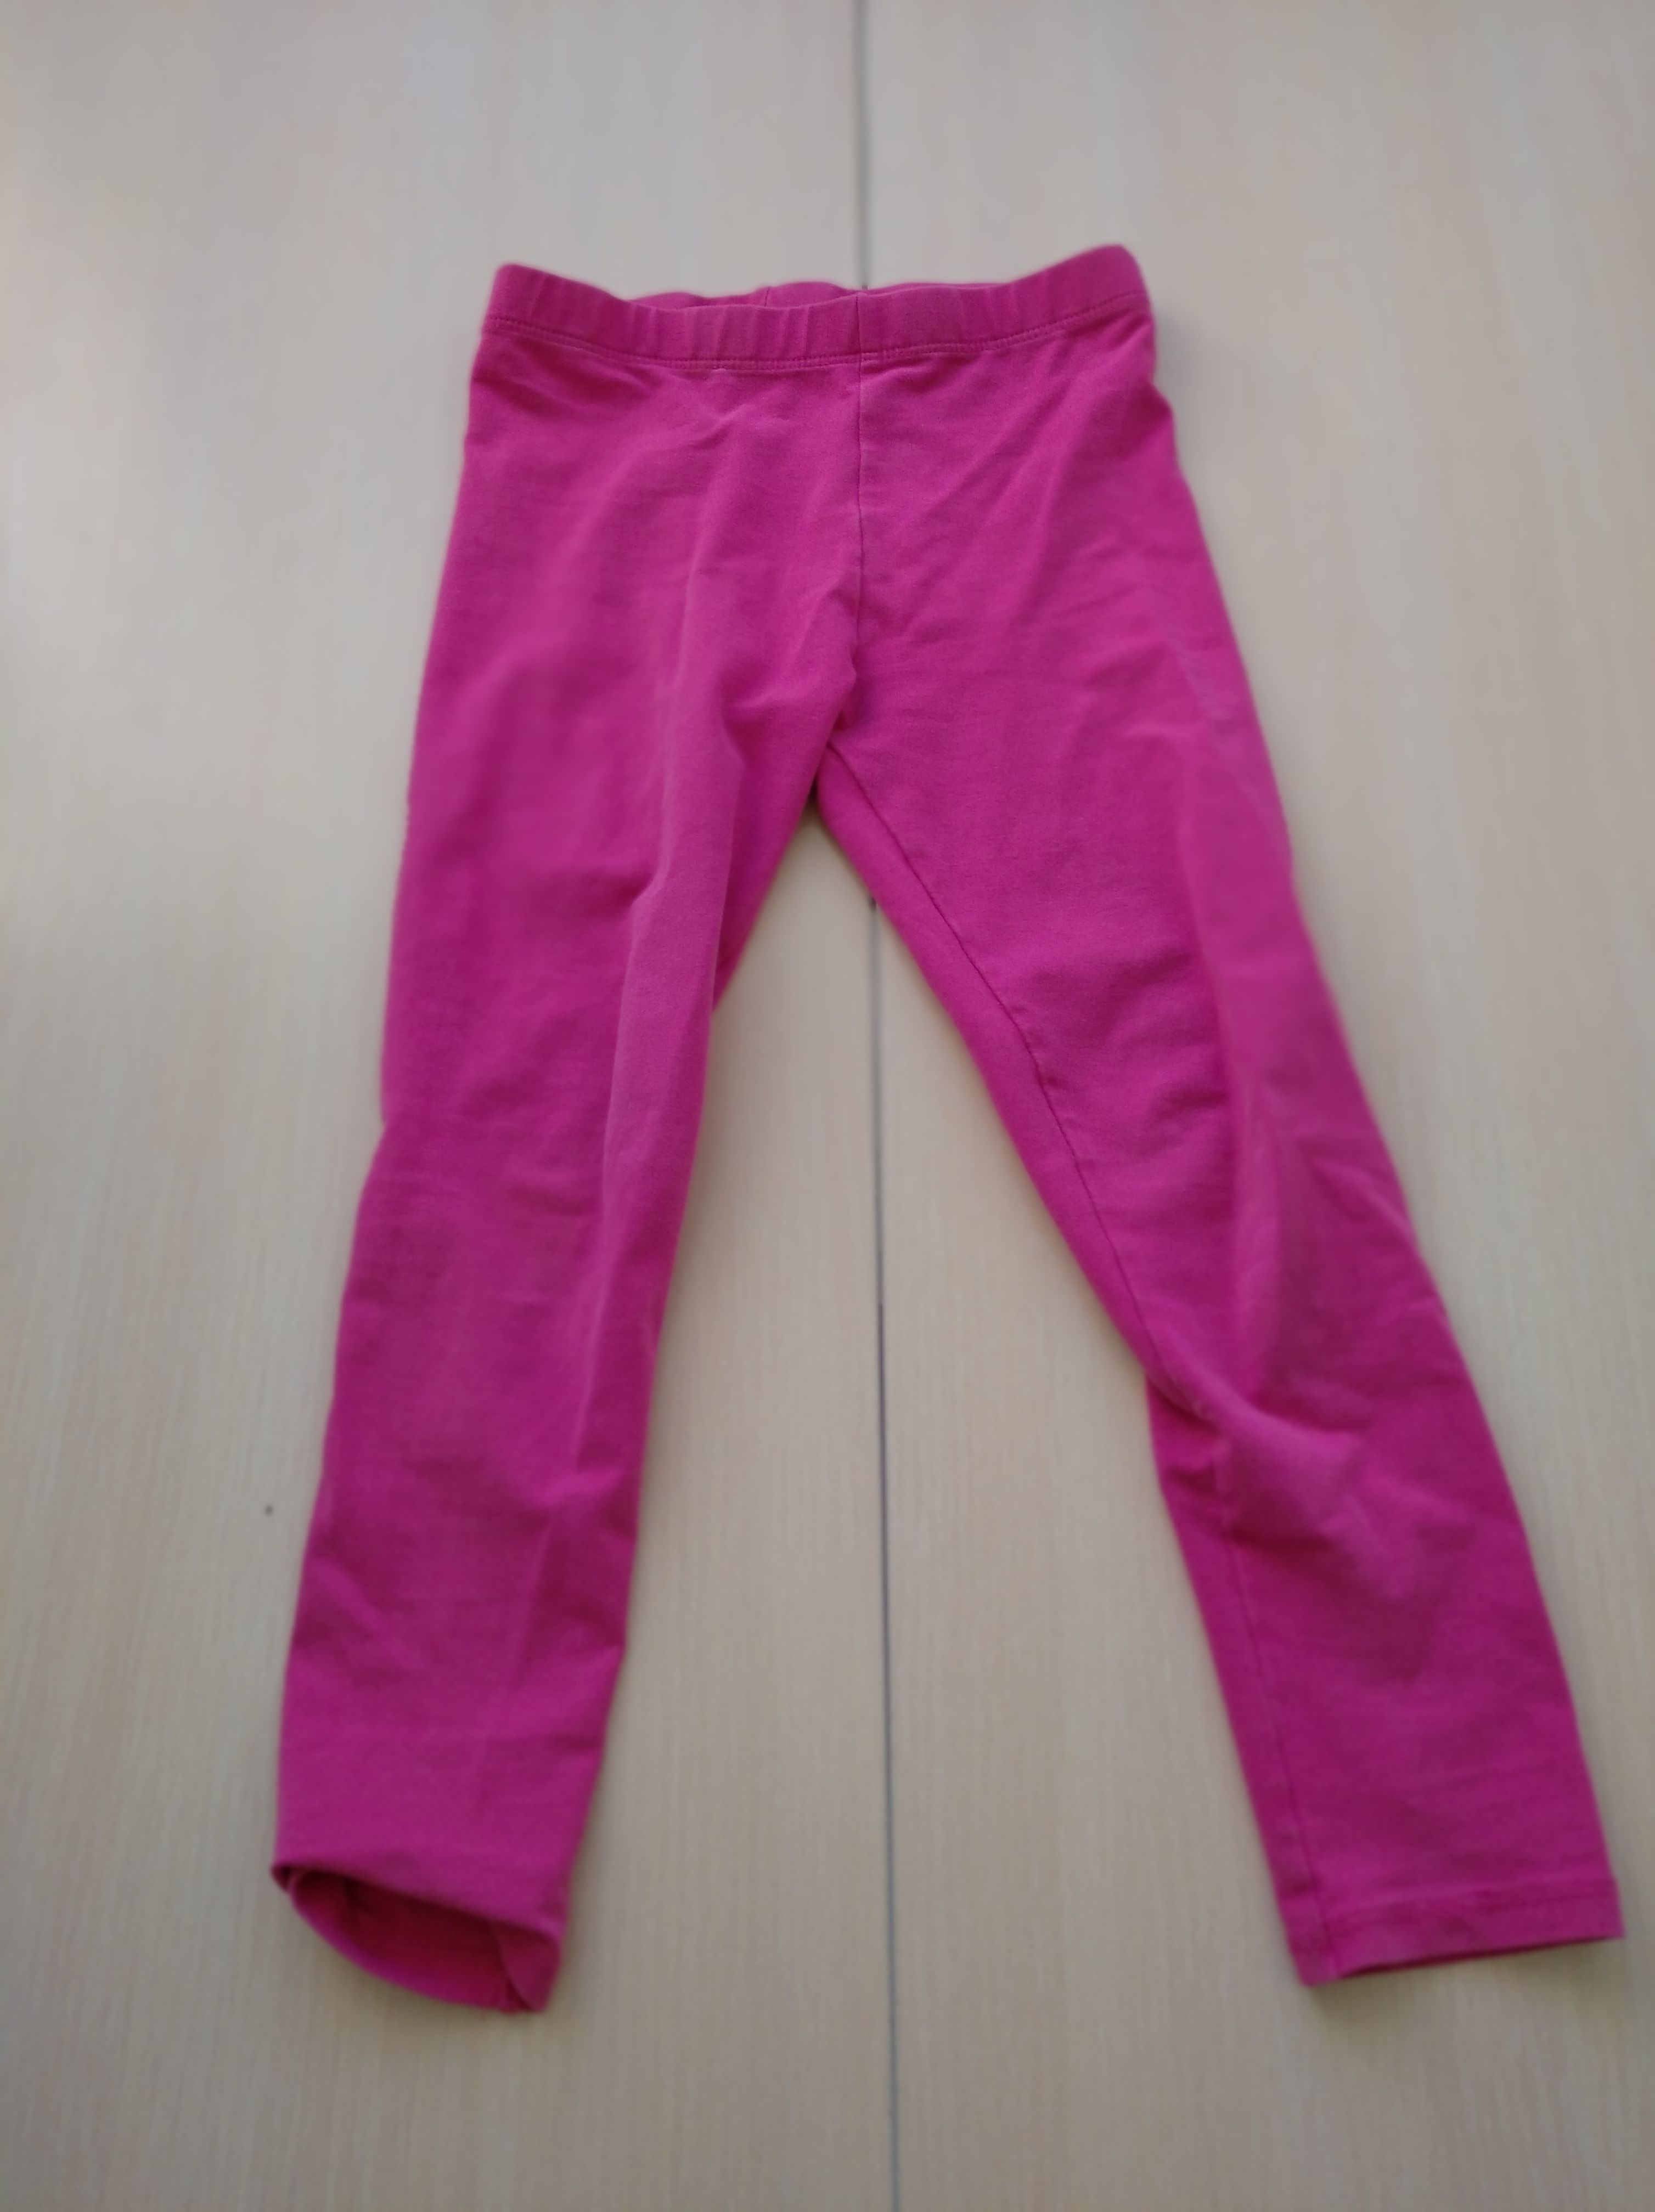clothes: (223, 245, 1618, 1986)
